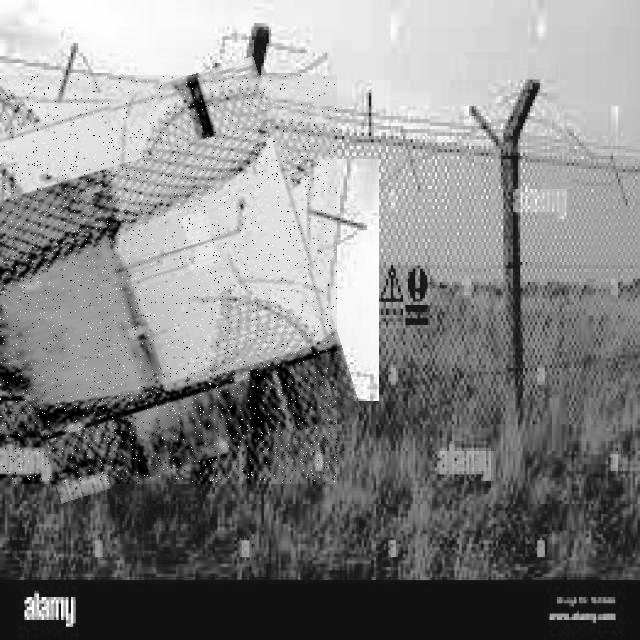anomaly-fence: (0, 75, 337, 484)
